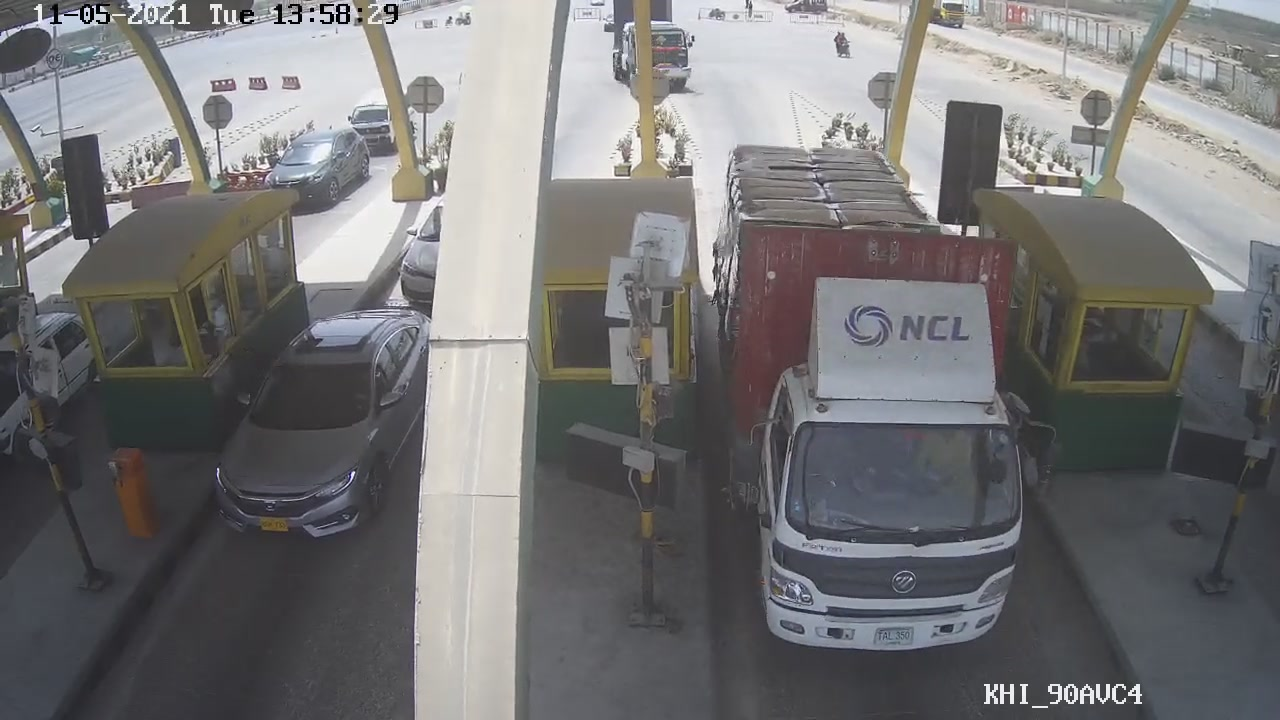F6: (705, 137, 1046, 655)
